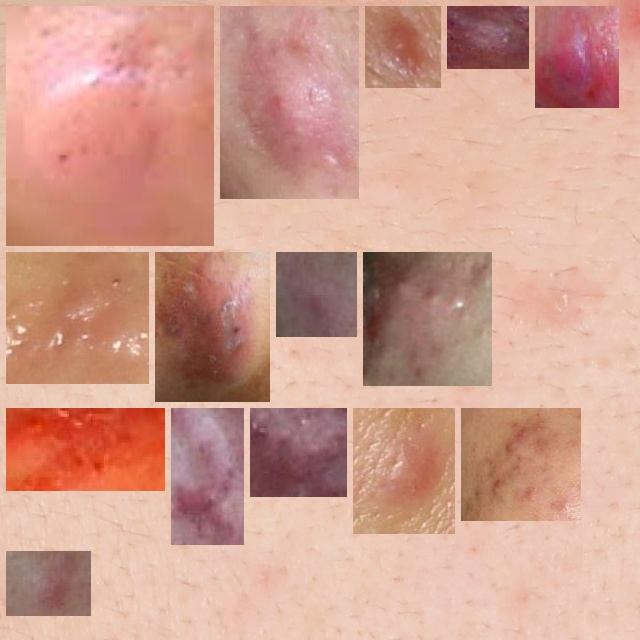nodule: (14, 14, 208, 238), (228, 14, 351, 191), (14, 260, 141, 376), (371, 260, 484, 378), (163, 260, 262, 394), (14, 408, 157, 483), (469, 416, 573, 513), (361, 416, 447, 526), (179, 416, 236, 537), (258, 416, 339, 489), (543, 14, 611, 100), (284, 260, 349, 329), (373, 14, 433, 80), (14, 559, 83, 608), (455, 14, 521, 62)
